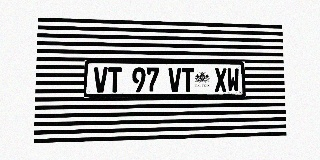7: (146, 67, 159, 92)
9: (132, 67, 146, 92)
T: (108, 67, 122, 92), (182, 68, 194, 92)
V: (94, 67, 108, 93), (168, 68, 181, 92)
W: (227, 68, 239, 92)
X: (214, 68, 227, 92)
